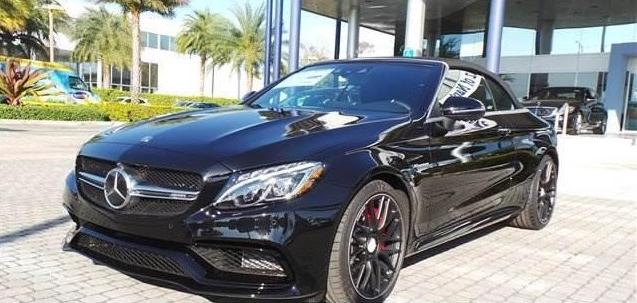C63AMG: (61, 57, 557, 303)
